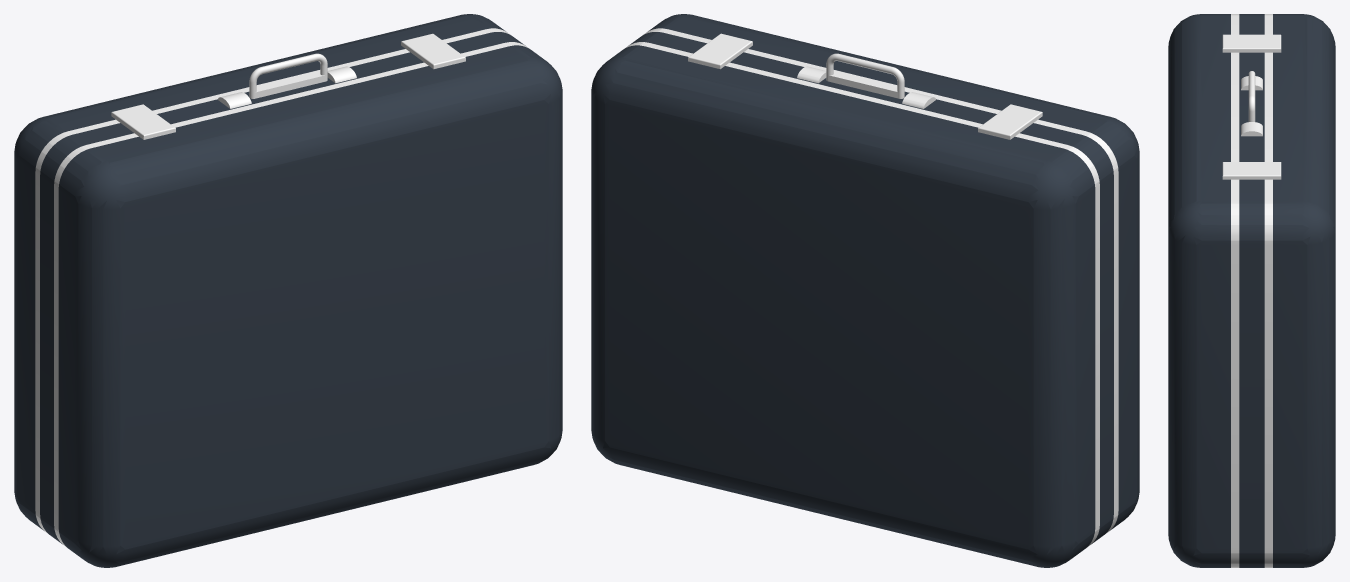
File: suitcase.dae
The picture shows the model from 3 angles, left to right: view 1: azimuth 30°, elevation 25°; view 2: azimuth 150°, elevation 25°; view 3: azimuth 270°, elevation 25°; orthographic projection. The views are drawn at different scales.
Visible parts, largest first — view 1: Group_17, Group_18, Group_19, Group_15, Group_16, group_6, group_2, group_4; view 2: Group_18, Group_17, Group_19, Group_16, Group_15, group_6, group_2, group_4; view 3: Group_18, Group_17, Group_19, Group_15, Group_16, group_2, group_4, group_6, group_8.
Part boxes in pixels (x1,y1,x2,y2): Group_17: [58, 45, 562, 567]; Group_18: [14, 14, 505, 530]; Group_19: [40, 32, 525, 544]; Group_15: [54, 42, 528, 547]; Group_16: [35, 28, 510, 533]; group_6: [249, 53, 327, 98]; group_2: [111, 104, 175, 139]; group_4: [401, 33, 465, 69]; Group_18: [591, 45, 1095, 567]; Group_17: [648, 14, 1139, 530]; Group_19: [628, 32, 1113, 544]; Group_16: [625, 42, 1099, 547]; Group_15: [643, 28, 1118, 533]; group_6: [826, 53, 904, 98]; group_2: [978, 104, 1042, 139]; group_4: [688, 33, 752, 69]; Group_18: [1273, 14, 1335, 567]; Group_17: [1168, 14, 1230, 567]; Group_19: [1239, 14, 1264, 567]; Group_15: [1231, 14, 1239, 567]; Group_16: [1264, 14, 1272, 567]; group_2: [1222, 34, 1281, 52]; group_4: [1222, 162, 1281, 179]; group_6: [1248, 71, 1255, 121]; group_8: [1241, 122, 1262, 136].
Size of the model in its own units: 32.33 by 10.78 by 28.2.
